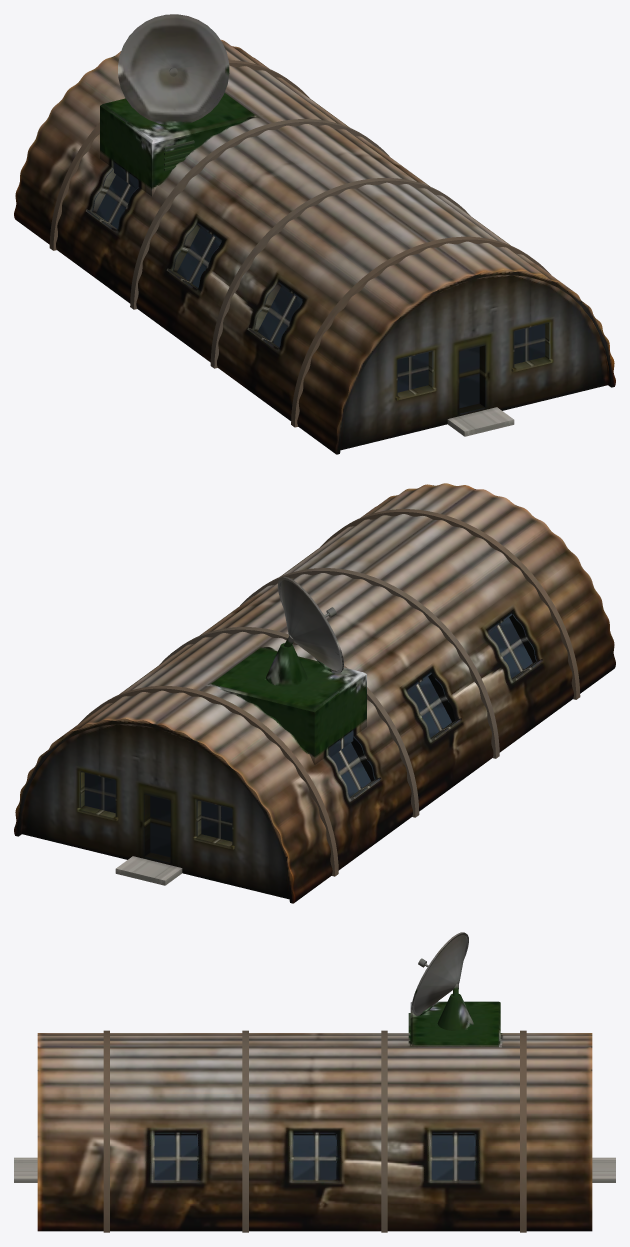
Rendered from quonset2_cad.glb.
3 renders of one model, top to bottom at view 1: azimuth 30°, elevation 25°; view 2: azimuth 150°, elevation 25°; view 3: azimuth 270°, elevation 25°, orthographic. The views are drawn at different scales.
Parts seen in each view (by area): view 1: quonset2; view 2: quonset2; view 3: quonset2.
Boxes of the visible parts, <box> form: quonset2: <box>14,14,615,454</box>; quonset2: <box>14,483,615,903</box>; quonset2: <box>14,932,615,1232</box>.
Bounding box in the file's own units: 8.66 × 7.09 × 18.34.
Materials: 1 (1 with a texture image).
